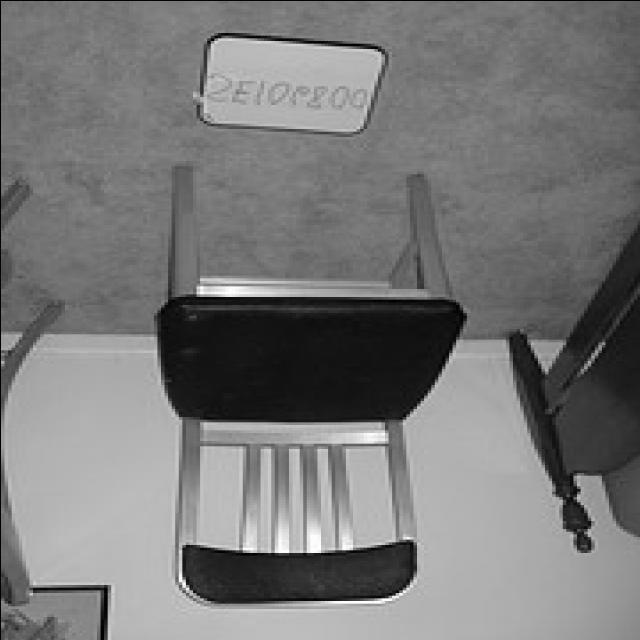chair: (154, 162, 469, 610)
